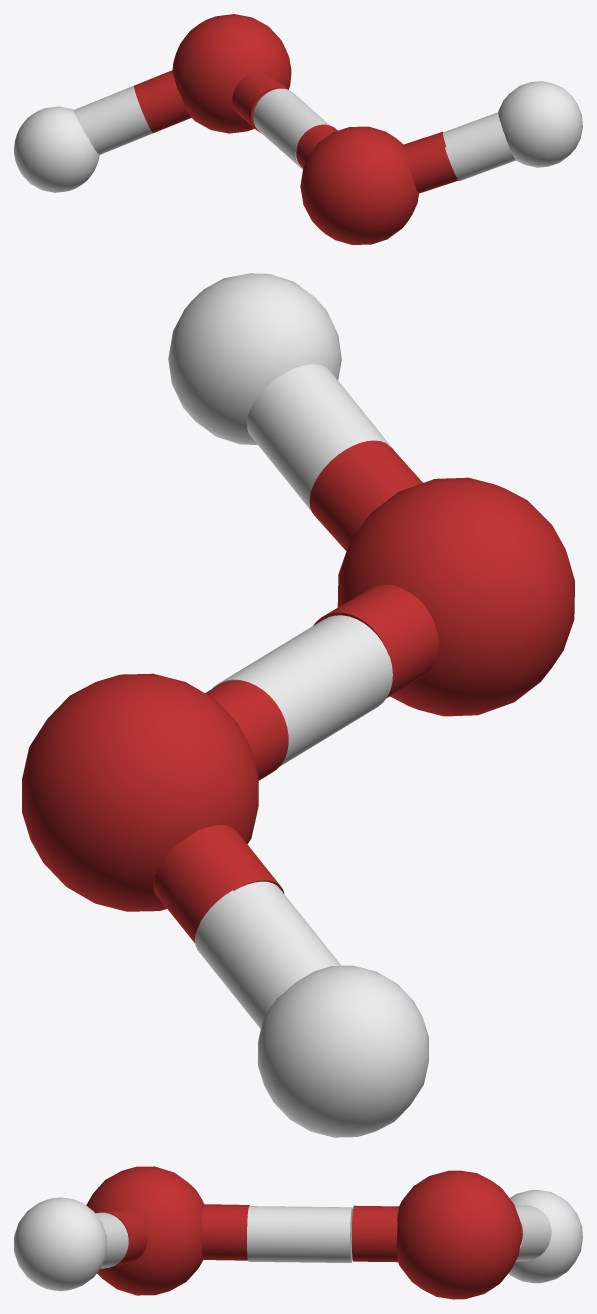
3 renders of one model, top to bottom at view 1: azimuth 30°, elevation 25°; view 2: azimuth 150°, elevation 25°; view 3: azimuth 270°, elevation 25°, orthographic. The views are drawn at different scales.
Visible parts, largest first — view 1: Hydrogen Peroxide; view 2: Hydrogen Peroxide; view 3: Hydrogen Peroxide.
Part boxes in pixels (x1,y1,x2,y2): Hydrogen Peroxide: [14, 14, 582, 244]; Hydrogen Peroxide: [22, 273, 574, 1137]; Hydrogen Peroxide: [14, 1166, 582, 1299].
Bounding box in the file's own units: 2.84 × 1.61 × 3.82.
